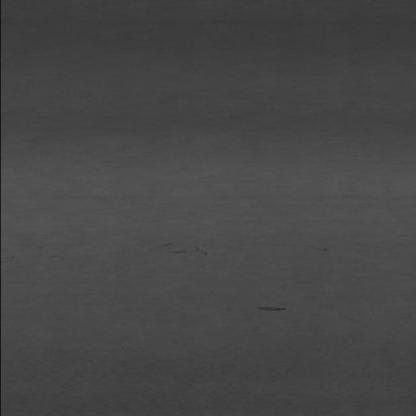oil_spot: (249, 302, 291, 314)
silk_spot: (16, 327, 410, 416)
water_spot: (155, 239, 206, 262)
